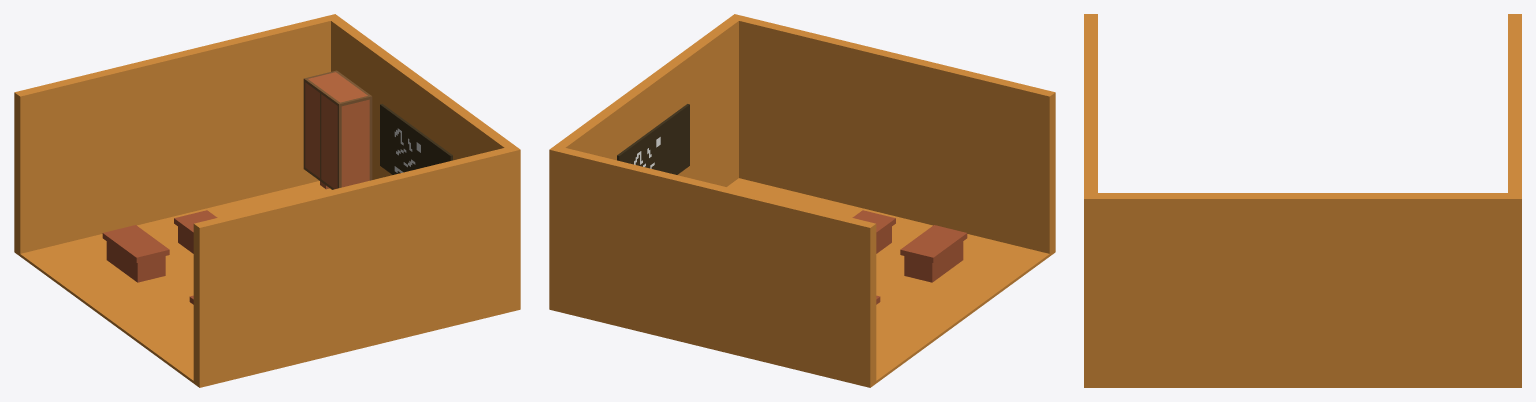
The model's file is place_classroom.obj.
3 renders of one model, left to right at view 1: azimuth 30°, elevation 25°; view 2: azimuth 150°, elevation 25°; view 3: azimuth 270°, elevation 25°, orthographic. The views are drawn at different scales.
Visible parts, largest first — view 1: place_classroom; view 2: place_classroom; view 3: place_classroom.
Part boxes in pixels (left/top/right/bottom): place_classroom: left=14, top=14, right=520, bottom=387; place_classroom: left=549, top=14, right=1055, bottom=387; place_classroom: left=1084, top=14, right=1521, bottom=387.
Bounding box in the file's own units: 126 × 60 × 126.
Materials: 1 (1 with a texture image).
